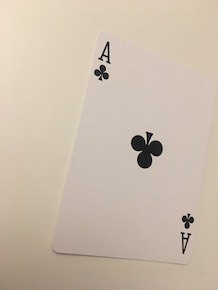AceOfClubs: (45, 25, 218, 268)
